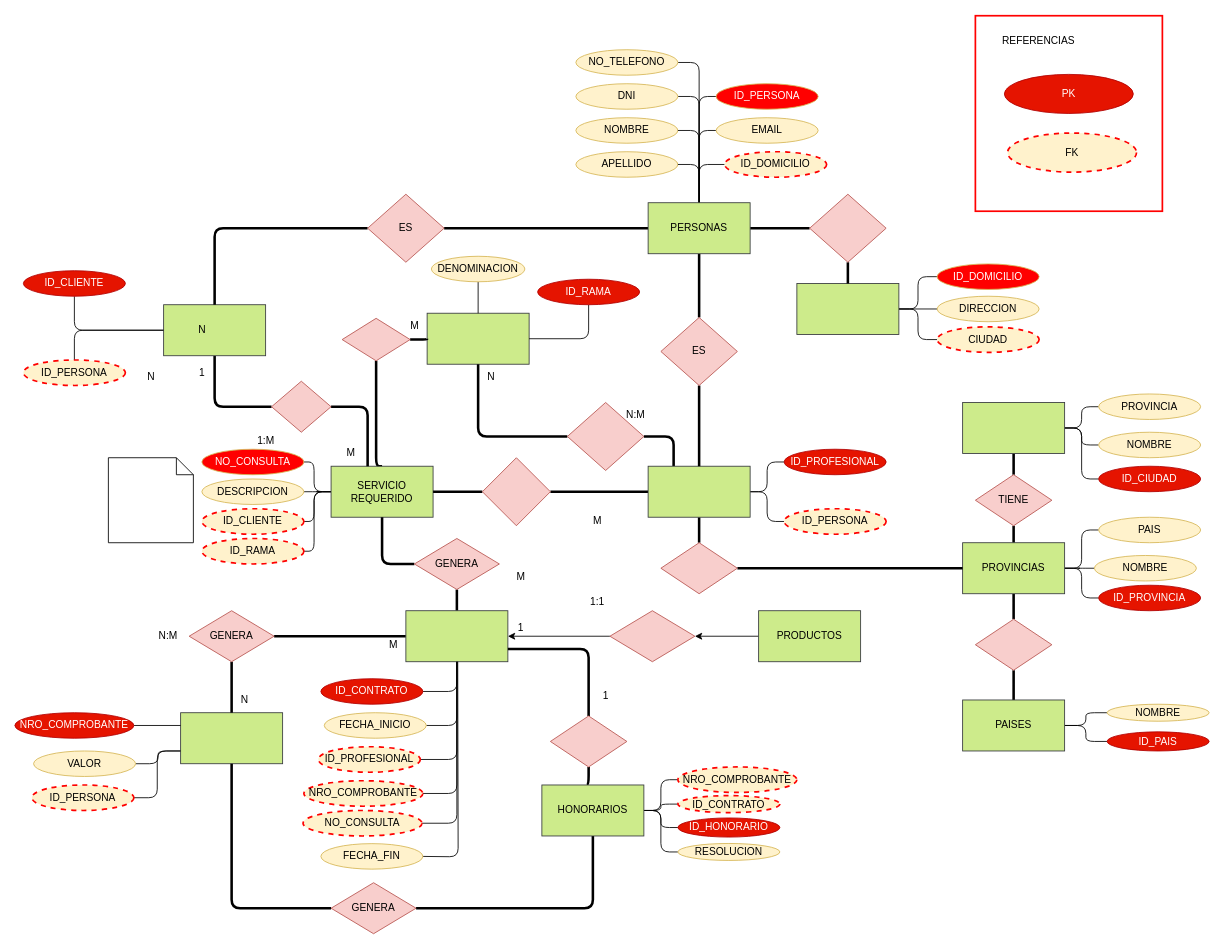
Some shapes in this 1224 by 949 pixel diagram are drawn without their labels. Here are the shapes that lost their labels. From the top down, the box of each, then its label:
(809, 193, 886, 262): VIVEN EN
(796, 283, 899, 334): DOMICILIOS
(163, 304, 266, 356): CLIENTES
(341, 317, 410, 361): NECESITA
(426, 312, 529, 364): RAMA (MATERIA)
(271, 380, 331, 432): SOLICITA
(567, 402, 644, 470): SE ESPECIALIZA EN
(962, 402, 1065, 453): LOCALIDADES
(108, 457, 193, 543): aca se normalizaron 2 tablas
(482, 457, 550, 526): ACEPTA
(647, 465, 750, 517): PROFESIONALES
(660, 542, 737, 594): MATRICULA
(405, 610, 508, 662): CONTRATO
(609, 610, 695, 662): OBJETO
(975, 618, 1052, 670): ESTA EN
(180, 712, 283, 764): COMPROBANTE
(550, 715, 627, 767): SI SALE BIEN
